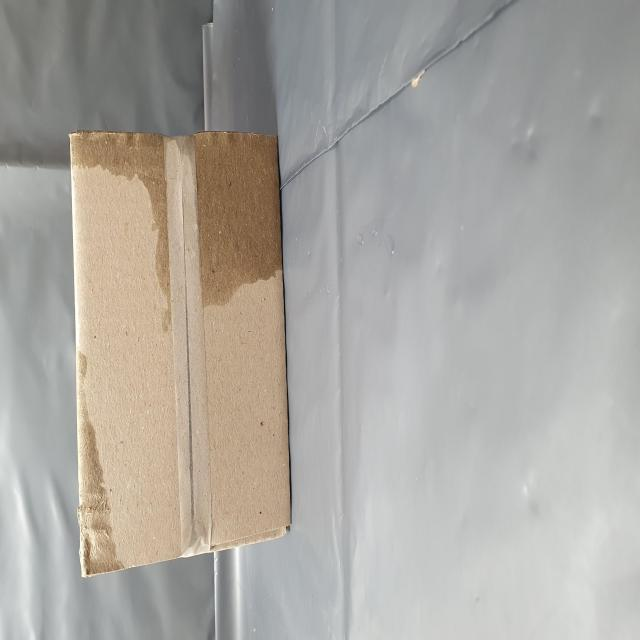wet: (185, 142, 290, 504), (32, 120, 138, 231)
